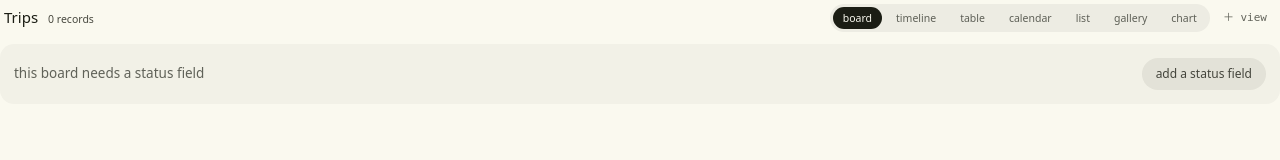
Scenario: CollectionBoard — the "add a status field" remedy (KAN-351) › the undo toast removes the field again, restoring the remedy
Click the button "add a status field" at (1204, 74), box [1142,58,1266,90]
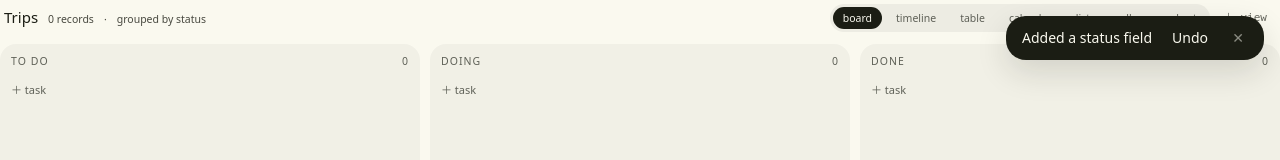
Expected: the text "to do" is shown, [11,54,49,69]
Click the button "Undo" at (1190, 38), box [1164,26,1216,50]
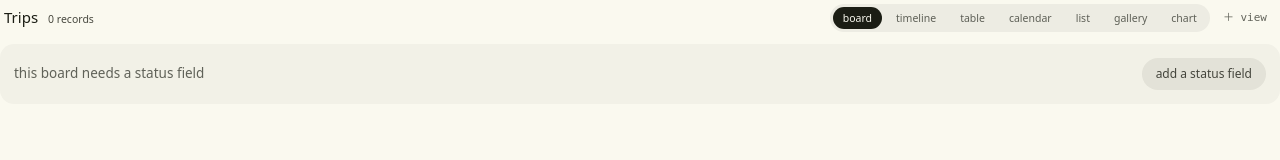
Expected: the button "add a status field" is shown, [1142,58,1266,90]
